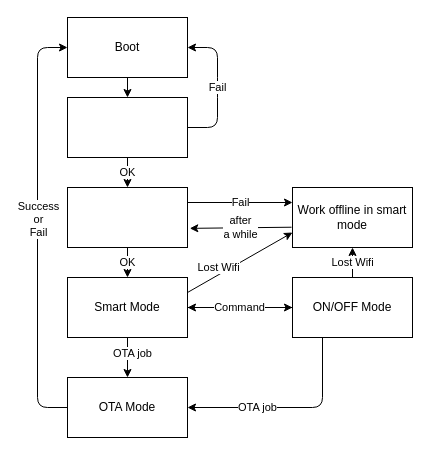
This 430x455 diagram has some shape labels left out. Each missing label, with the box of its shape:
Self check: (66, 96, 188, 158)
Try to connect Wifi and AWS: (66, 186, 188, 248)
